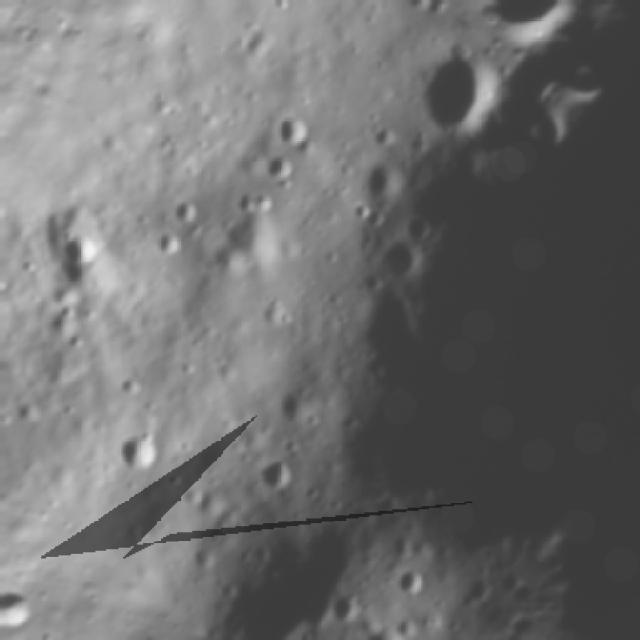crater: (211, 48, 640, 621), (382, 27, 520, 168), (95, 416, 170, 490), (259, 100, 324, 166), (476, 556, 530, 616), (340, 615, 418, 640), (213, 618, 278, 640)
